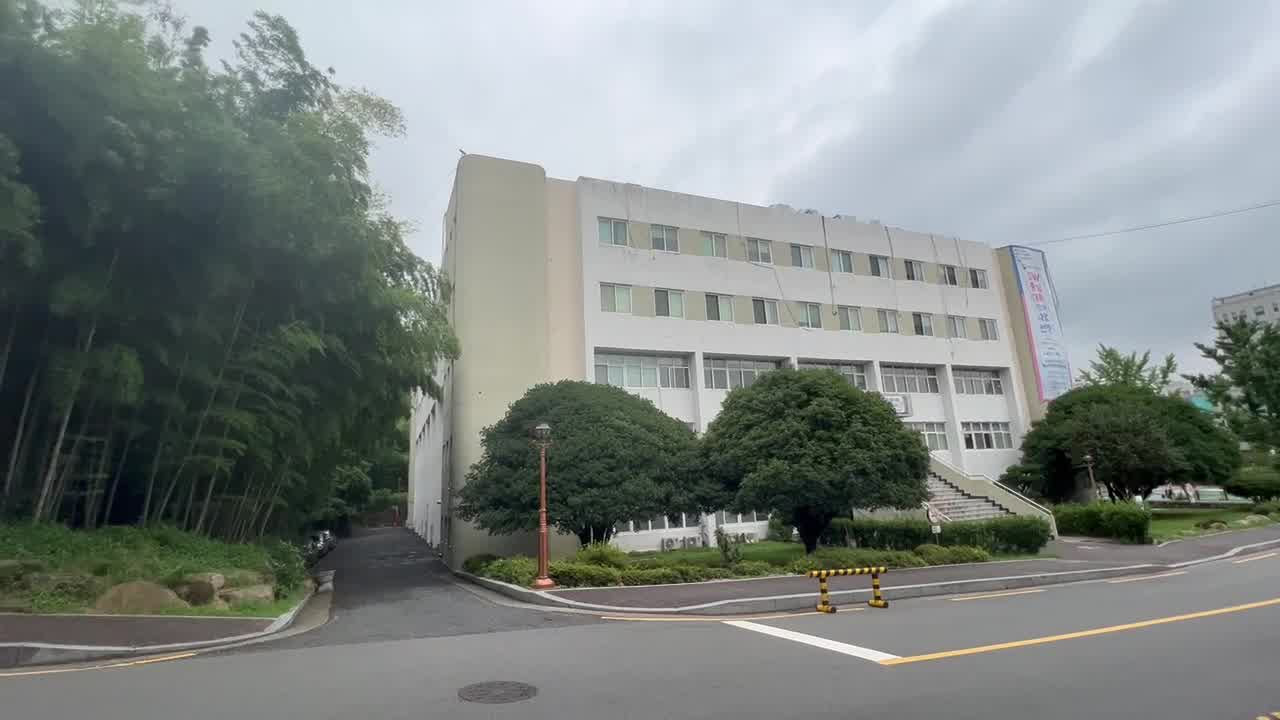low: (449, 133, 1003, 364)
